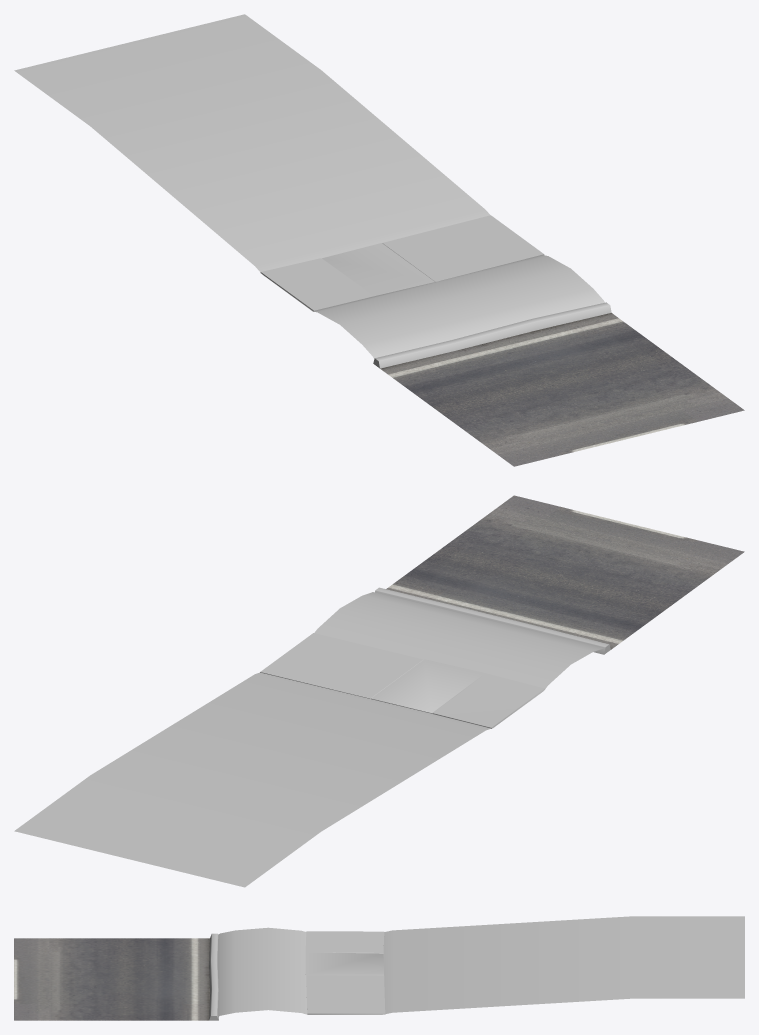
The model's file is Road_4x.FBX.
The picture shows the model from 3 angles, top to bottom: view 1: azimuth 30°, elevation 25°; view 2: azimuth 150°, elevation 25°; view 3: azimuth 270°, elevation 25°; orthographic projection. The views are drawn at different scales.
Parts seen in each view (by area): view 1: Road_4x; view 2: Road_4x; view 3: Road_4x.
Boxes of the visible parts, x1=… form: Road_4x: x1=14, y1=14, x2=744, y2=466; Road_4x: x1=14, y1=495, x2=744, y2=887; Road_4x: x1=14, y1=916, x2=744, y2=1020.
Size of the model in its own units: 401 by 50.07 by 1500.
